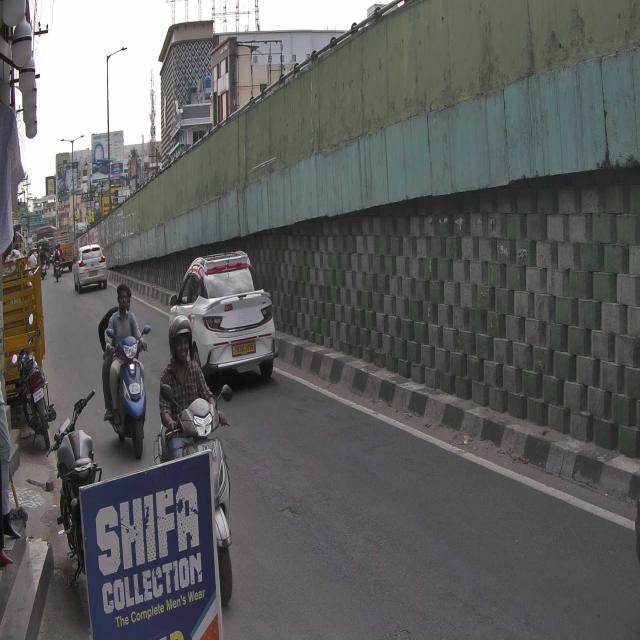double_rider: (97, 282, 148, 460)
single_rider: (154, 314, 236, 610)
